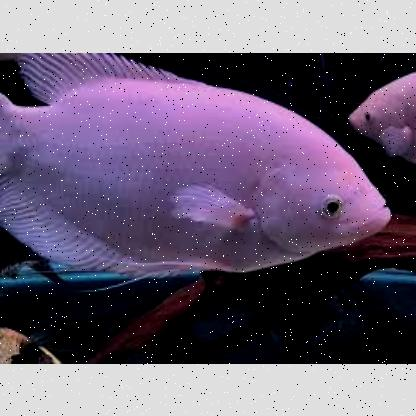gurame: (0, 64, 388, 280)
